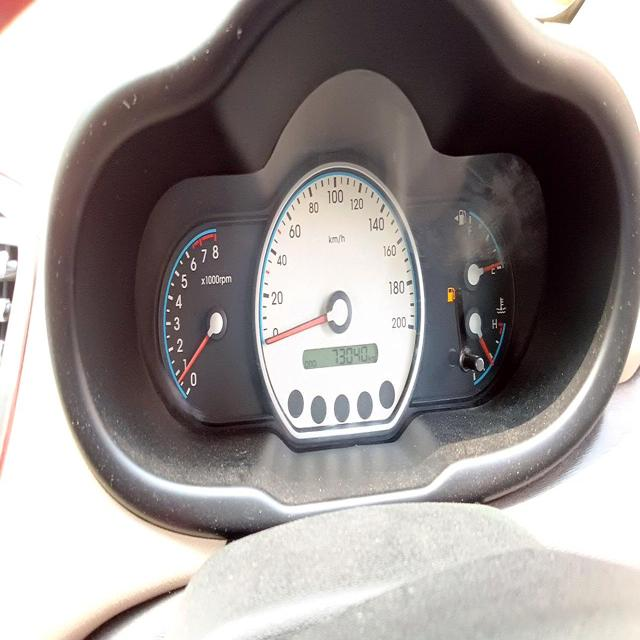odometer: (330, 344, 369, 367)
